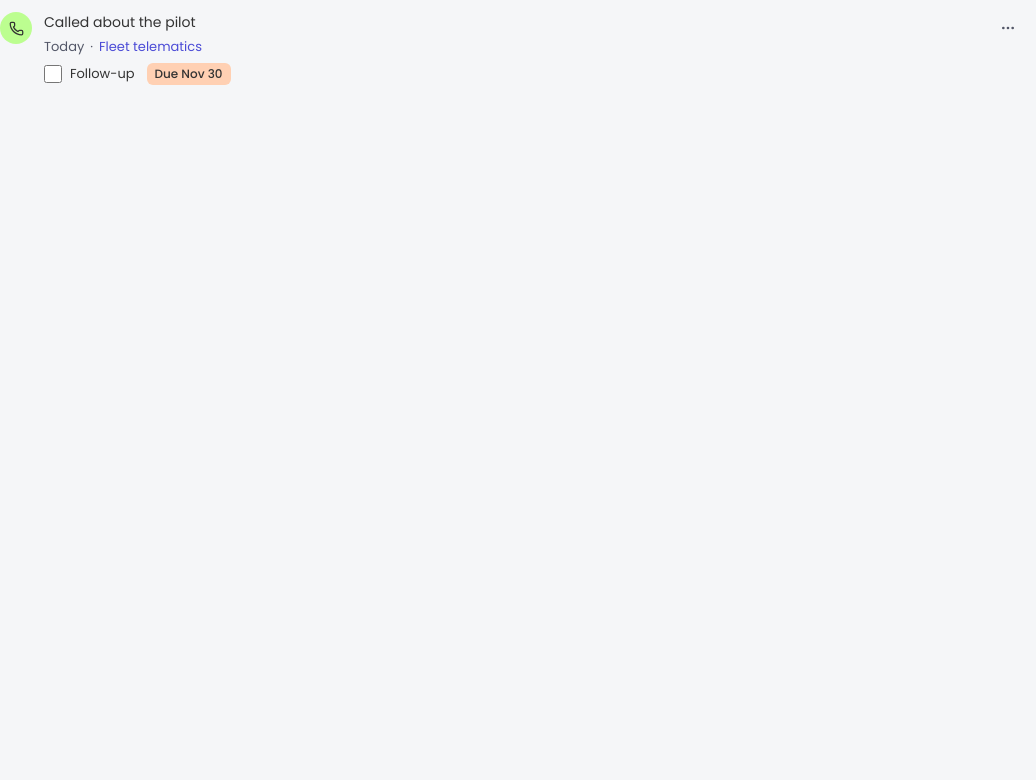
Test: a timeline › says so when marking a follow-up fails, and leaves it as it was
This screenshot has width=1036, height=780.
Click the checkbox named "Mark done: Called about the pilot": click(53, 74) [44,64,62,82]
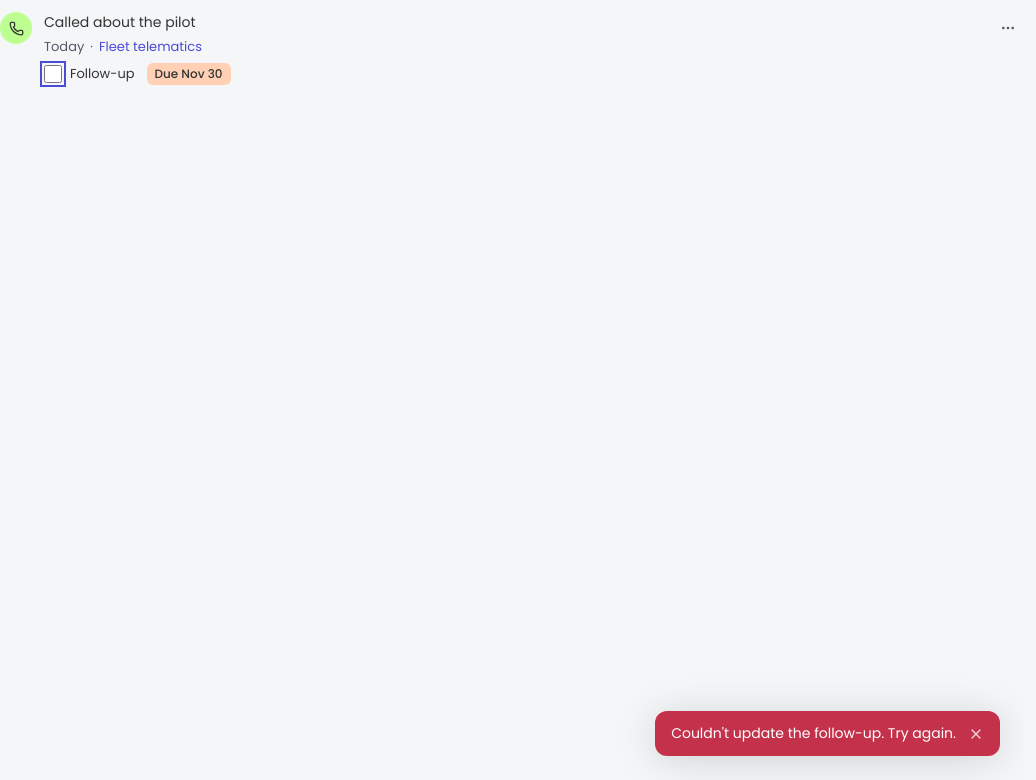
Result: the text "Couldn't update the follow-up. Try again." is shown at [671,723,956,744]
